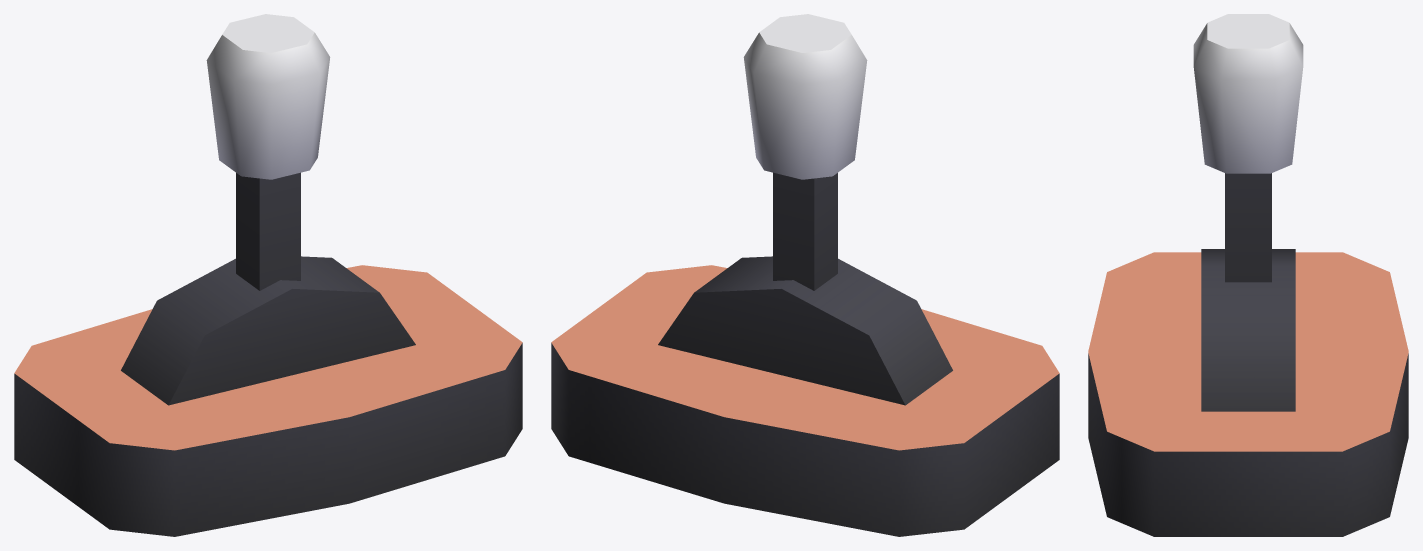
The model's file is lever-single.obj.
The picture shows the model from 3 angles, left to right: view 1: azimuth 30°, elevation 25°; view 2: azimuth 150°, elevation 25°; view 3: azimuth 270°, elevation 25°; orthographic projection.
Visible parts, largest first — view 1: lever-single, handle; view 2: lever-single, handle; view 3: lever-single, handle.
Boxes of the visible parts, x1,y1,x2,y2 form: lever-single: (14,256,522,536); handle: (206,14,330,290); lever-single: (551,256,1059,536); handle: (743,14,867,290); lever-single: (1088,249,1408,536); handle: (1193,14,1303,282).
Bounding box in the file's own units: 0.5 × 0.475 × 0.34.
